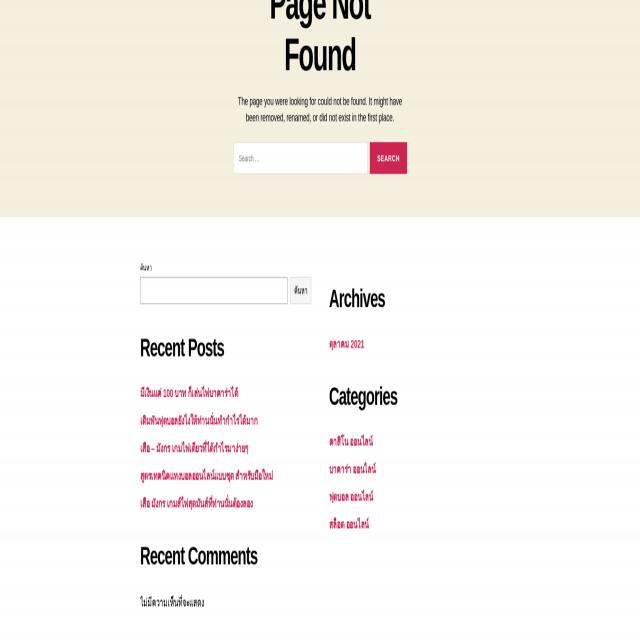button: (369, 143, 406, 174), (291, 277, 311, 304)
field: (233, 143, 367, 174), (140, 277, 288, 304)
